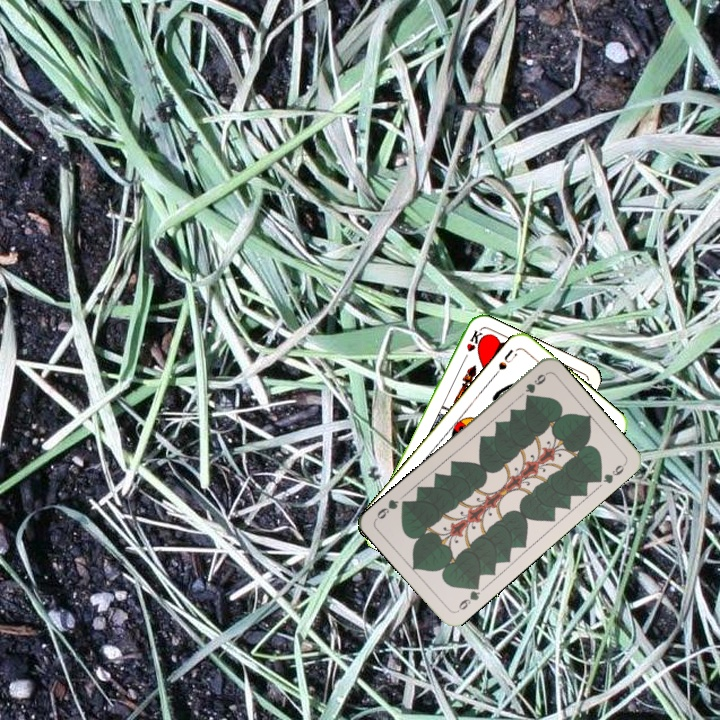G9: (452, 579, 483, 615), (521, 369, 549, 396)
HK: (459, 326, 485, 365)
SU: (490, 345, 520, 379)
